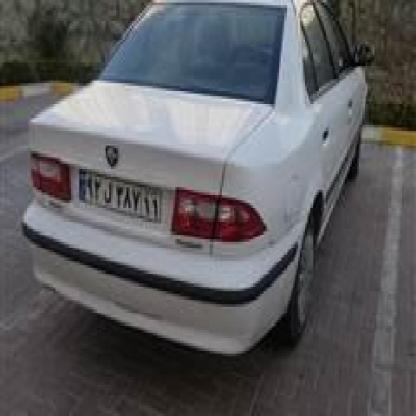Car: (18, 0, 370, 372)
